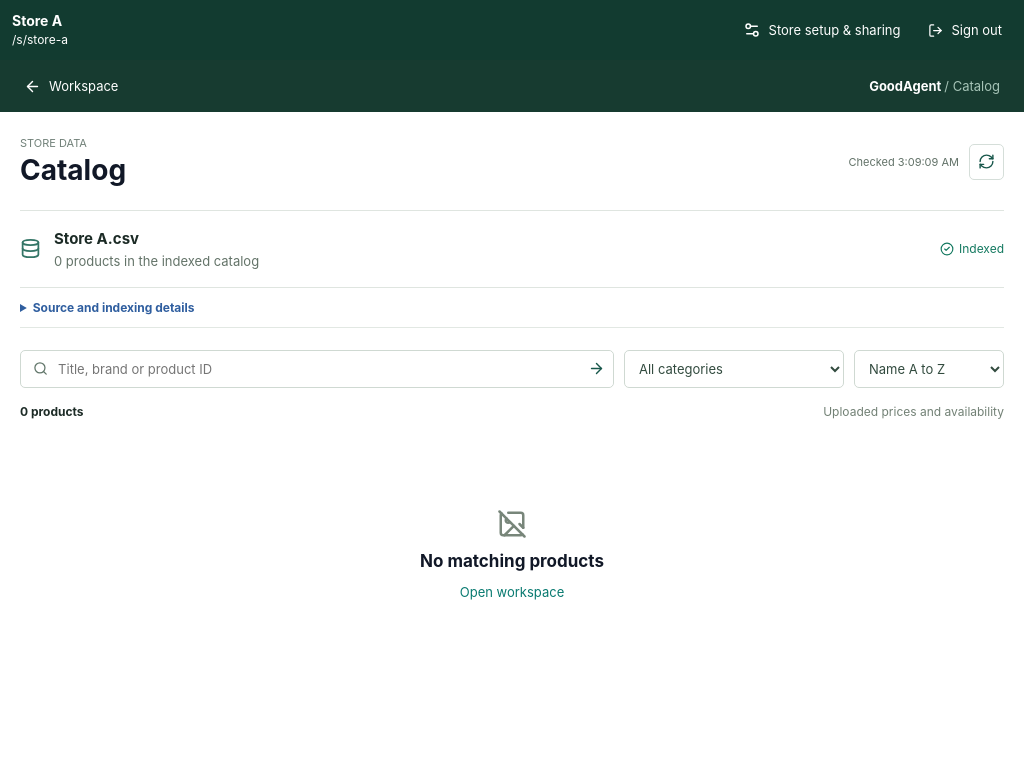
Test: StoreAccess request intent and explicit recovery › keeps the existing error behavior for protected 403
Expected: the text "Store A.csv" is shown, [54,229,139,248]
Click the button named "Refresh catalog": (986, 162) [969,144,1004,180]
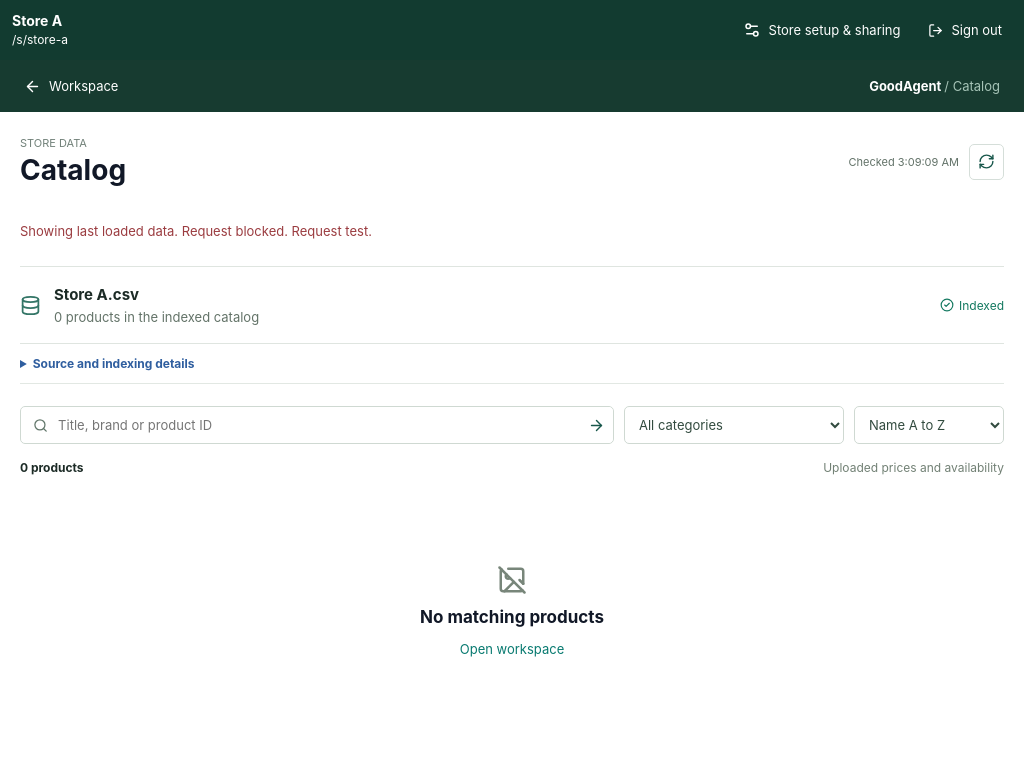
Expected: the text "Store A.csv" is shown, [54,285,139,304]
Now the message shows "Showing last loaded data", box [20,223,182,239]
